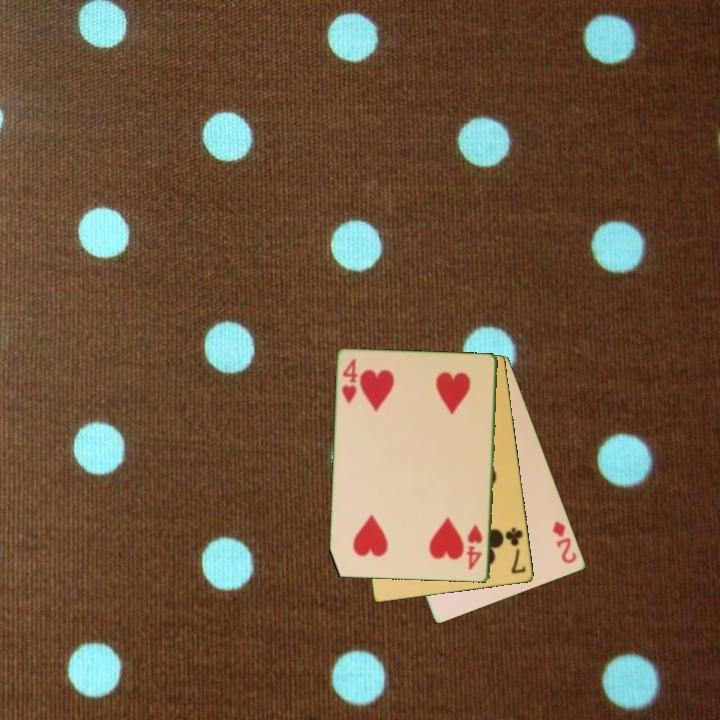2d: (549, 518, 580, 567)
4h: (338, 355, 361, 407), (465, 522, 486, 573)
7c: (502, 524, 529, 577)
